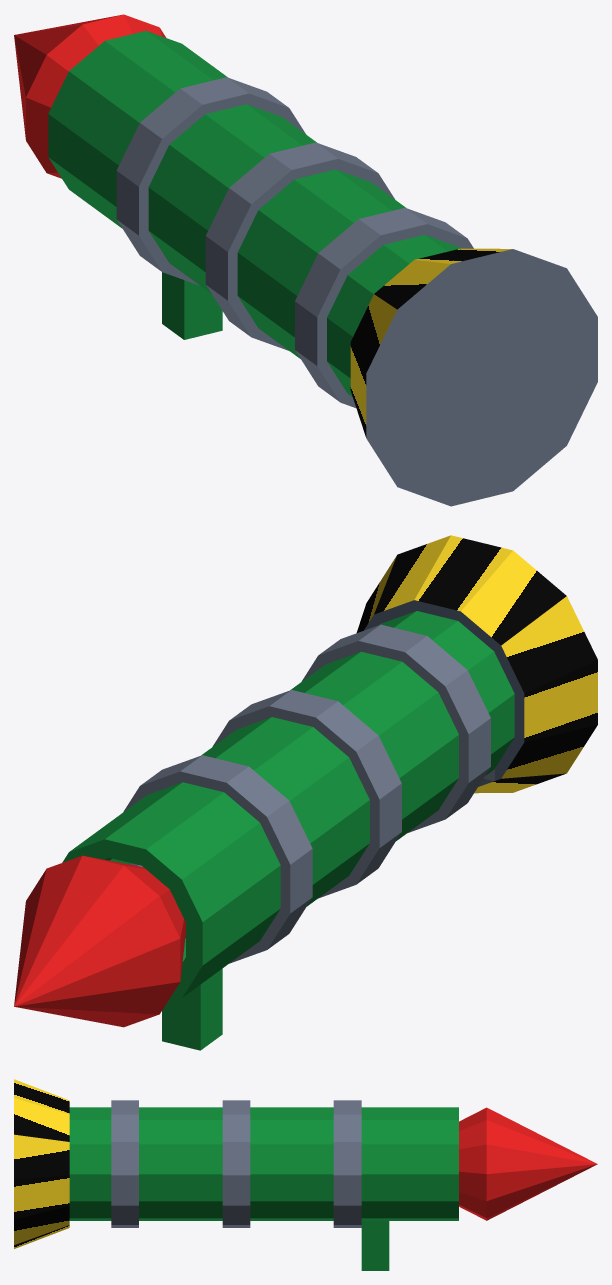
Rendered from bazooka.gltf.
The picture shows the model from 3 angles, top to bottom: view 1: azimuth 30°, elevation 25°; view 2: azimuth 150°, elevation 25°; view 3: azimuth 270°, elevation 25°; orthographic projection. The views are drawn at different scales.
Parts seen in each view (by area): view 1: tube (×4), cylinder, cone (×2), cuboid; view 2: tube (×4), cylinder, cone (×2), cuboid; view 3: tube (×4), cone (×2), cylinder, cuboid.
Part boxes in pixels (box(x1,y1,x2,y2)): tube (×4): box(48, 31, 473, 407); cylinder: box(350, 248, 597, 506); cone (×2): box(14, 14, 166, 178); cuboid: box(162, 272, 222, 339); tube (×4): box(62, 611, 514, 1003); cylinder: box(356, 535, 597, 793); cone (×2): box(14, 855, 185, 1027); cuboid: box(162, 968, 222, 1050); tube (×4): box(69, 1100, 458, 1227); cone (×2): box(459, 1107, 597, 1220); cylinder: box(14, 1079, 69, 1248); cuboid: box(361, 1221, 389, 1270).
Size of the model in its own units: 0.375 by 0.4375 by 1.31.
1 material, 1 textured.
